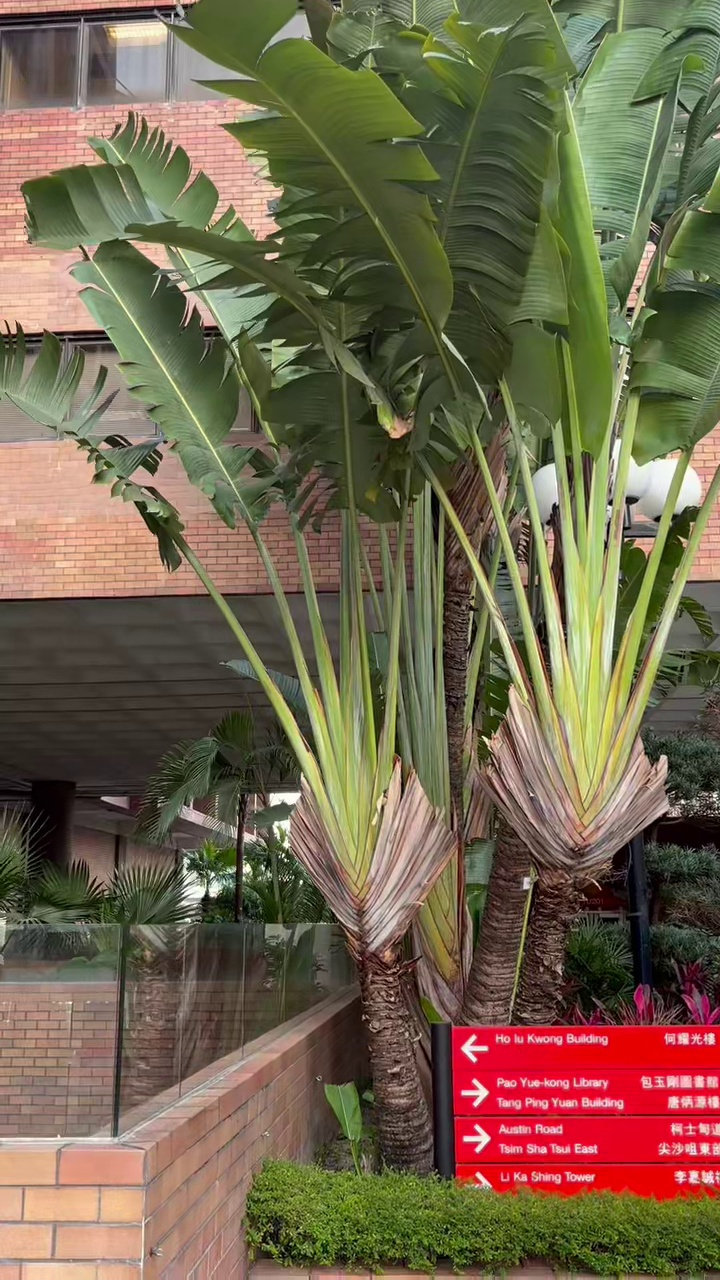Travellers-tree: (24, 0, 719, 1171)
